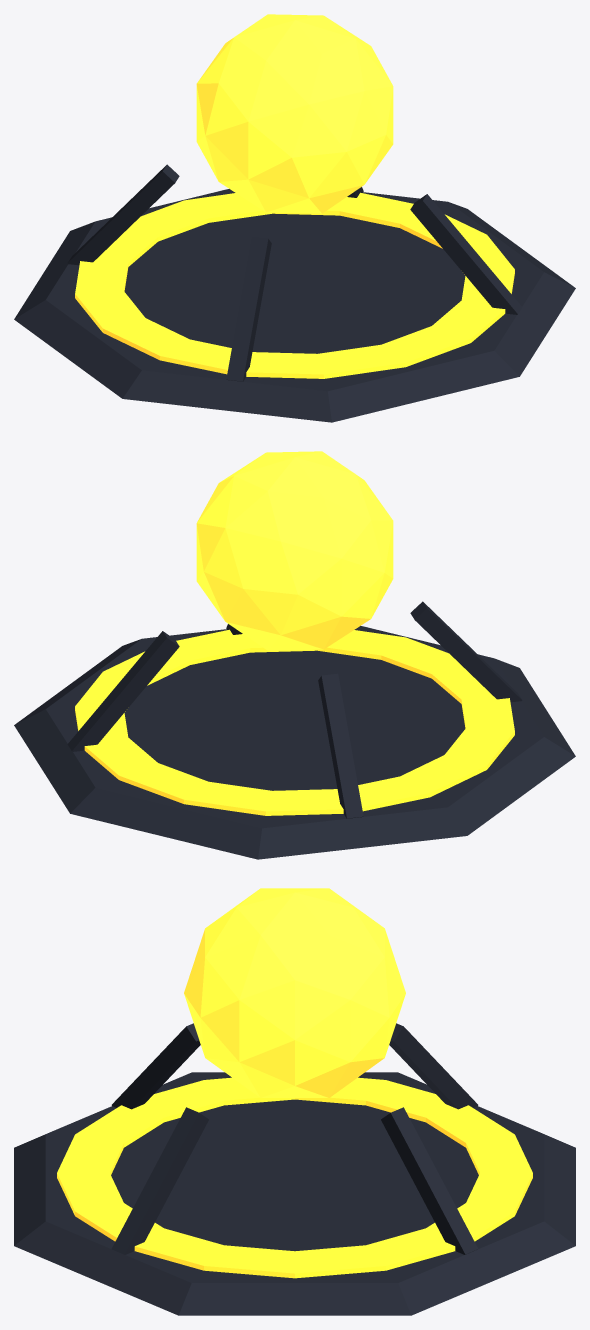
File: boost_pad_big.glb
The picture shows the model from 3 angles, top to bottom: view 1: azimuth 30°, elevation 25°; view 2: azimuth 150°, elevation 25°; view 3: azimuth 270°, elevation 25°; orthographic projection. The views are drawn at different scales.
Parts seen in each view (by area): view 1: BoostPad_Big_Base, BoostPad_Big_Orb; view 2: BoostPad_Big_Base, BoostPad_Big_Orb; view 3: BoostPad_Big_Base, BoostPad_Big_Orb.
Boxes of the visible parts, x1=… form: BoostPad_Big_Base: x1=14, y1=164, x2=575, y2=422; BoostPad_Big_Orb: x1=196, y1=14, x2=393, y2=213; BoostPad_Big_Base: x1=14, y1=601, x2=575, y2=859; BoostPad_Big_Orb: x1=196, y1=451, x2=393, y2=650; BoostPad_Big_Base: x1=14, y1=1023, x2=575, y2=1315; BoostPad_Big_Orb: x1=184, y1=888, x2=405, y2=1097.
Size of the model in its own units: 2.12 by 1.27 by 2.12.
